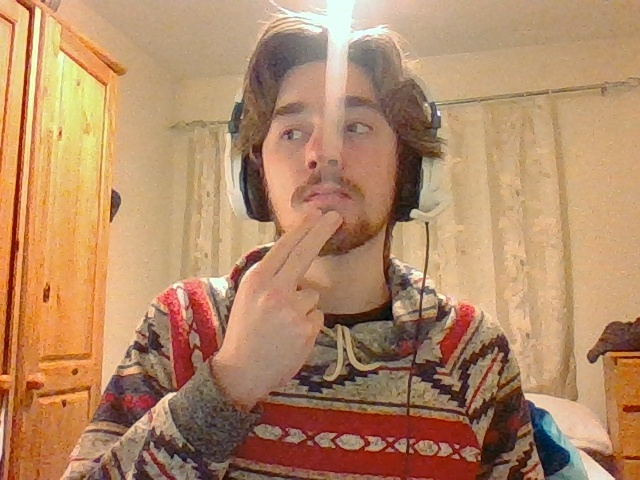afternoon: (204, 210, 346, 408)
